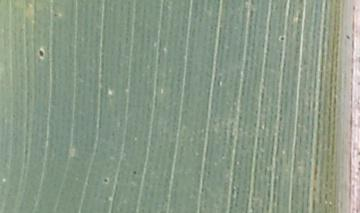tarspot: (38, 48, 45, 59), (132, 169, 139, 176), (104, 177, 110, 185), (280, 36, 287, 42)
